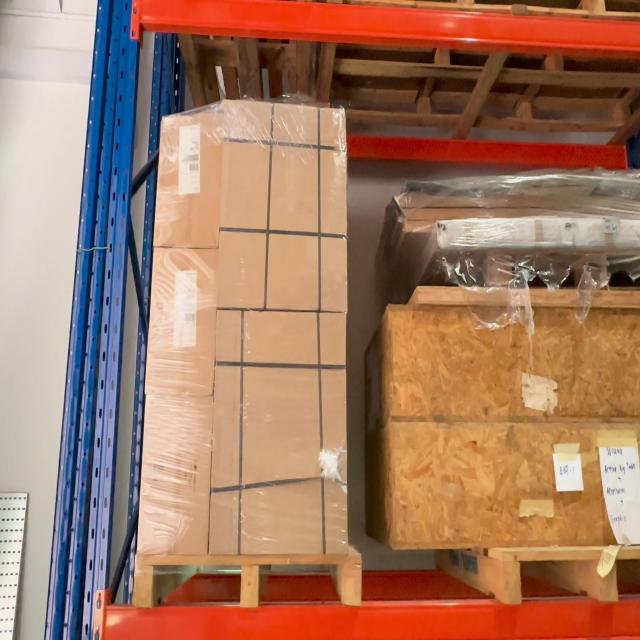box: (218, 312, 346, 554), (222, 110, 344, 306), (149, 395, 209, 552), (155, 248, 213, 394), (163, 117, 217, 245)
